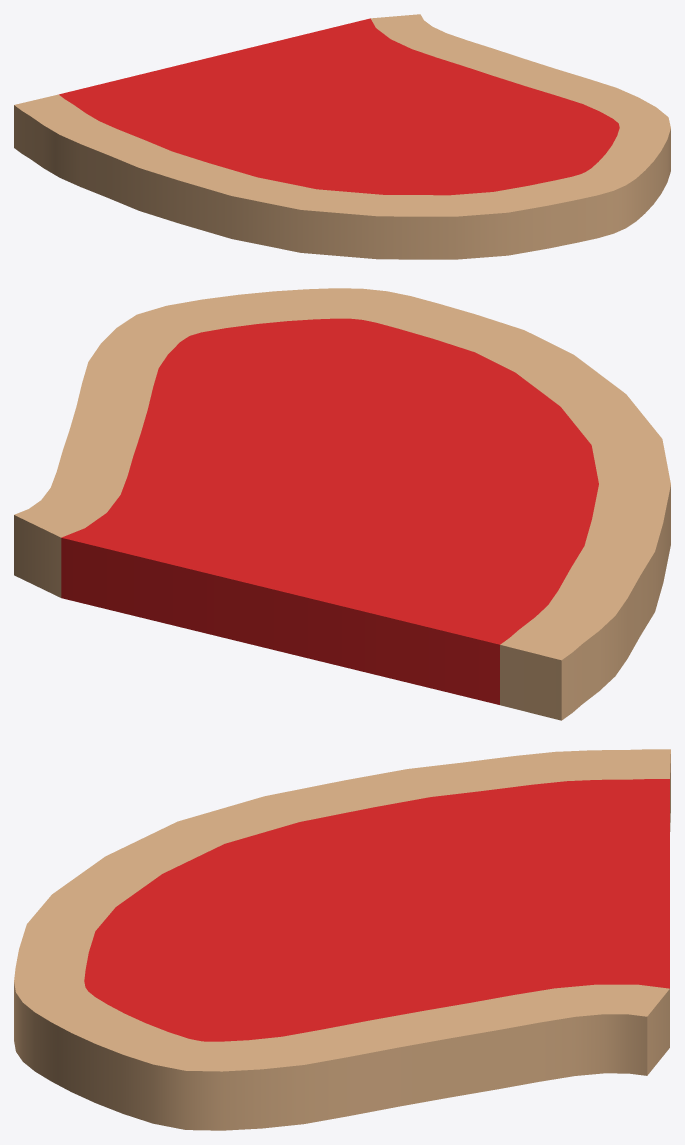
The model's file is Et çiğ part 2.fbx.
3 views of the same model, one above another, from view 1: azimuth 30°, elevation 25°; view 2: azimuth 150°, elevation 25°; view 3: azimuth 270°, elevation 25° (orthographic). The views are drawn at different scales.
Parts seen in each view (by area): view 1: Cylinder.001; view 2: Cylinder.001; view 3: Cylinder.001.
Part boxes in pixels (bbox=[...]): Cylinder.001: bbox=[14, 14, 670, 259]; Cylinder.001: bbox=[14, 288, 670, 720]; Cylinder.001: bbox=[14, 749, 670, 1130].
Size of the model in its own units: 16.22 by 1.39 by 13.98.
